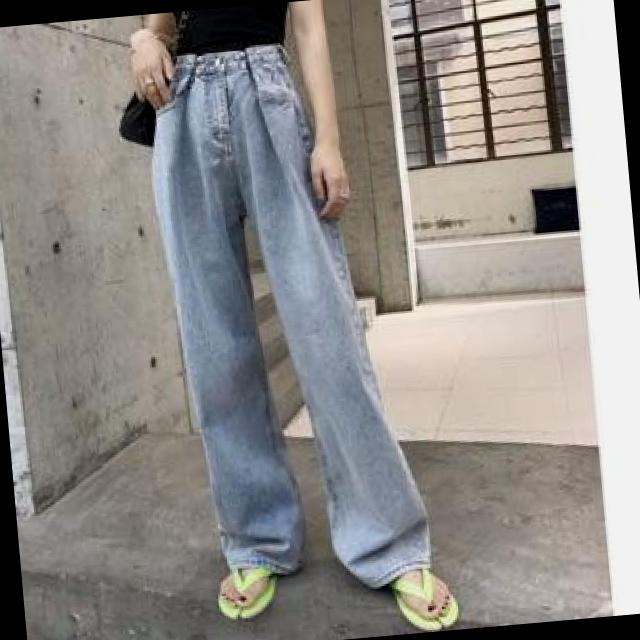pants: (136, 29, 432, 595)
